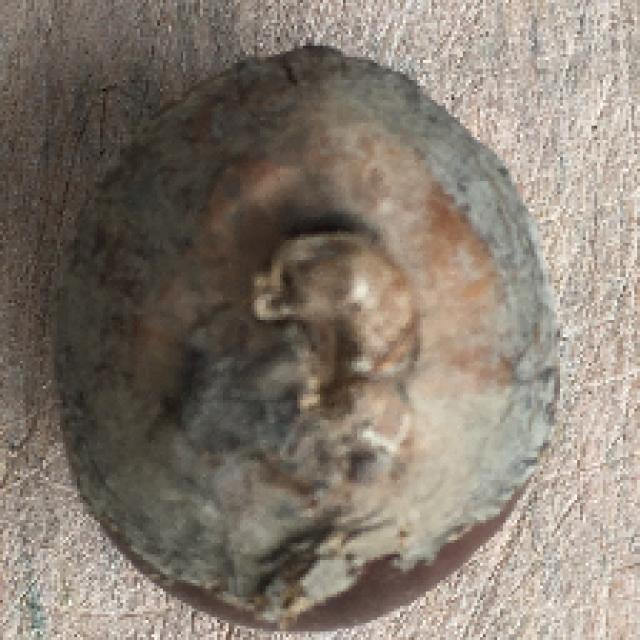damagedHazelnut: (52, 51, 566, 628)
